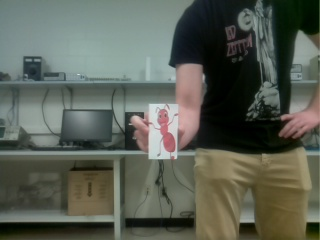Happy: (148, 104, 178, 159)
